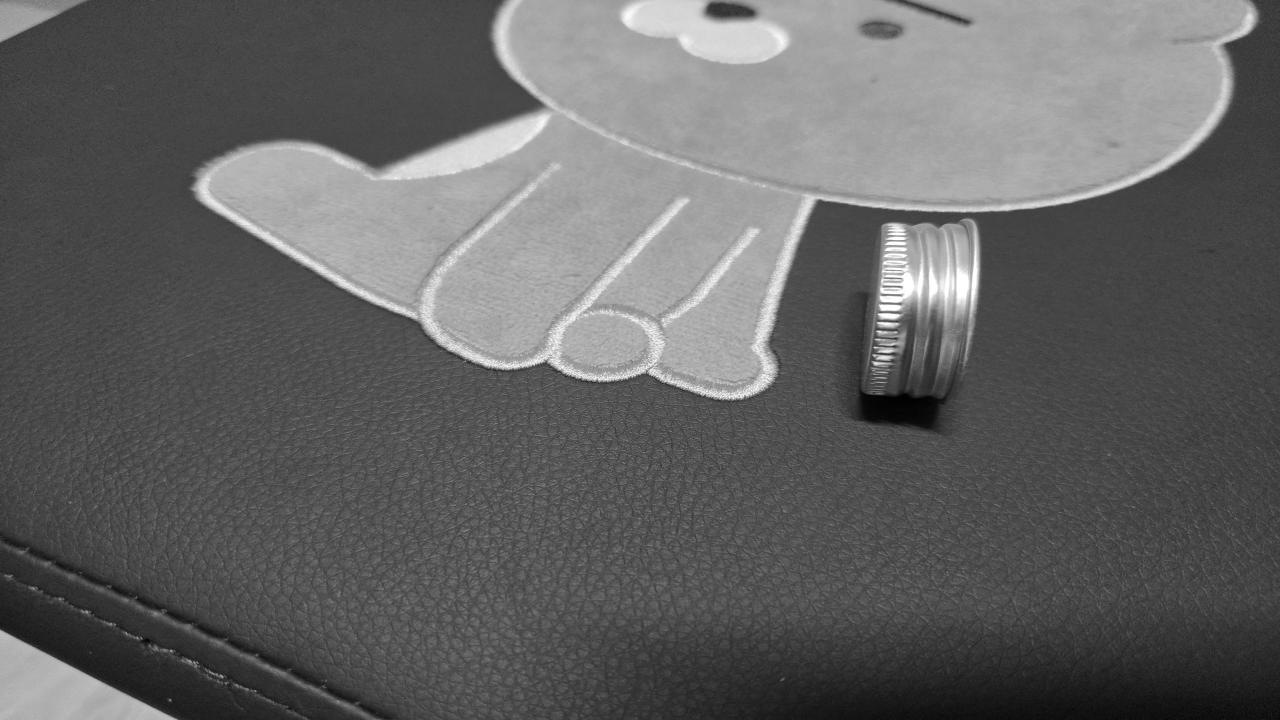bottle_cap: (854, 210, 990, 413)
